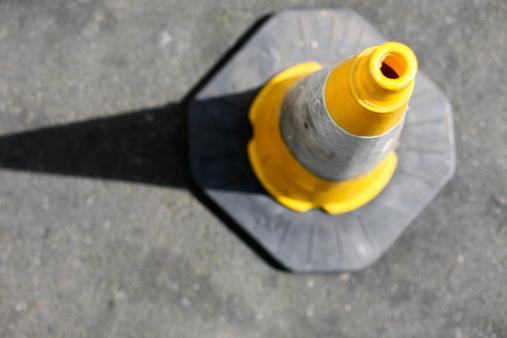Cone: (174, 8, 463, 272)
